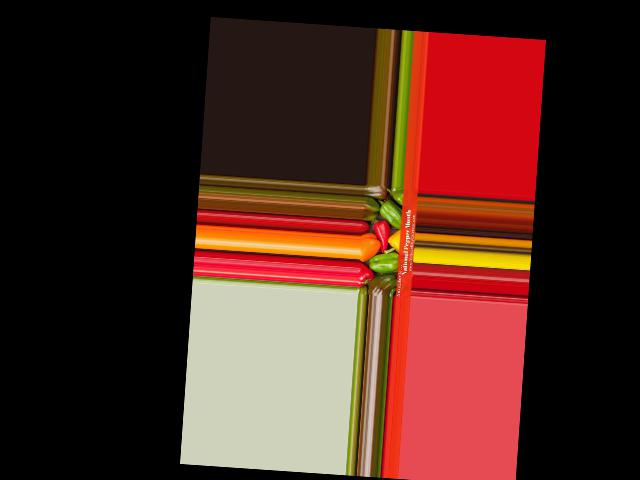bell_pepper: (367, 273, 397, 296)
